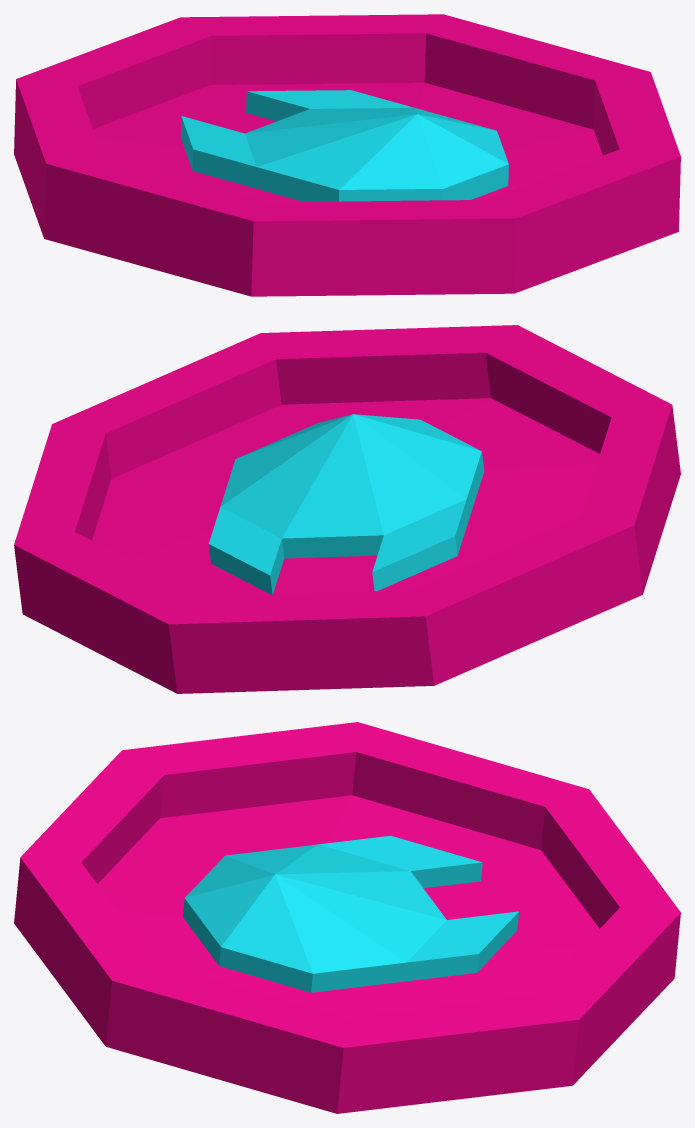
File: menu_token.glb
The picture shows the model from 3 angles, top to bottom: view 1: azimuth 30°, elevation 25°; view 2: azimuth 150°, elevation 25°; view 3: azimuth 270°, elevation 25°; orthographic projection. The views are drawn at different scales.
Visible parts, largest first — view 1: Cylinder.001; view 2: Cylinder.001; view 3: Cylinder.001.
Part boxes in pixels (box(x1,y1,x2,y2)): Cylinder.001: box(14, 14, 680, 296); Cylinder.001: box(14, 325, 680, 693); Cylinder.001: box(14, 722, 680, 1113).
Size of the model in its own units: 0.6249 by 0.1423 by 0.6249.
